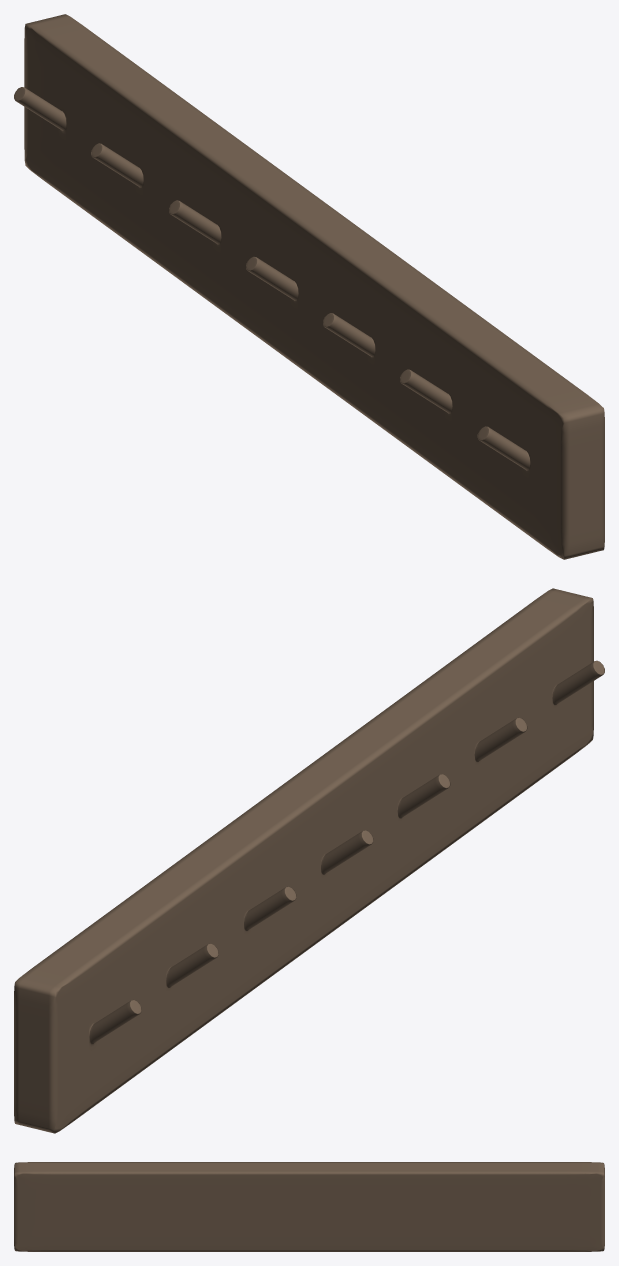
File: GEO_Hallway_Hanger_UNTEX.fbx
3 views of the same model, one above another, from view 1: azimuth 30°, elevation 25°; view 2: azimuth 150°, elevation 25°; view 3: azimuth 270°, elevation 25° (orthographic). The views are drawn at different scales.
Visible parts, largest first — view 1: GEO_Entryway_WallHanger; view 2: GEO_Entryway_WallHanger; view 3: GEO_Entryway_WallHanger.
Boxes of the visible parts, box(x1,y1,x2,y2) form: GEO_Entryway_WallHanger: box(14, 14, 604, 559); GEO_Entryway_WallHanger: box(14, 588, 604, 1133); GEO_Entryway_WallHanger: box(14, 1162, 604, 1251).
Bounding box in the file's own units: 7.46 × 11.7 × 79.1.
